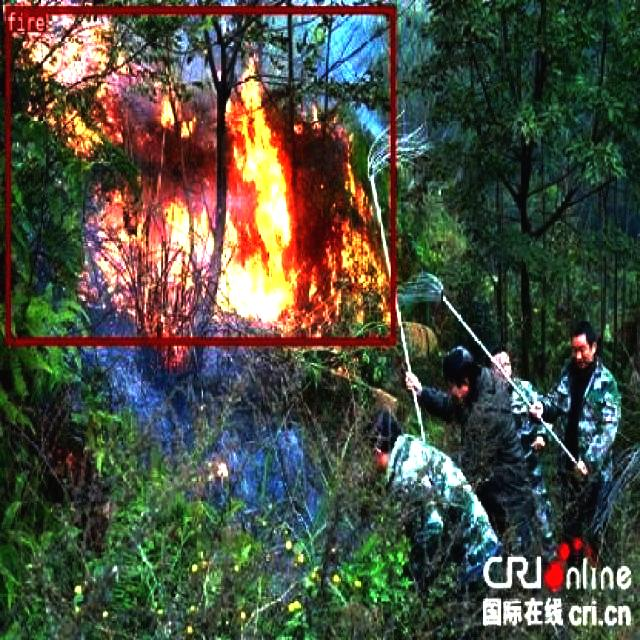fire: (4, 5, 396, 344)
